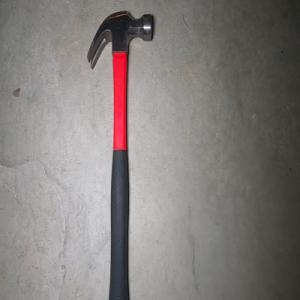Hammer: (85, 9, 153, 300)
